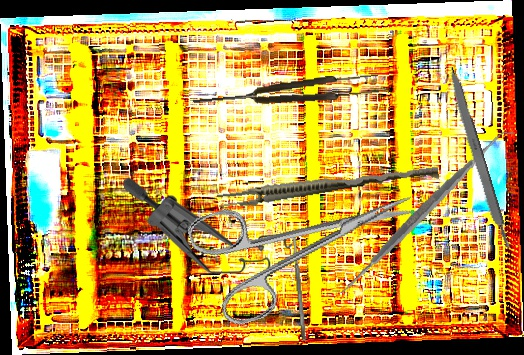Iris Scissors: (184, 153, 433, 332)
Scalpel Handle: (443, 64, 513, 253)
Spatula Surgical: (332, 117, 515, 307), (291, 228, 307, 342)
Speculum: (124, 177, 292, 277)
Tissue Forceps: (216, 157, 440, 214), (192, 71, 380, 113)
